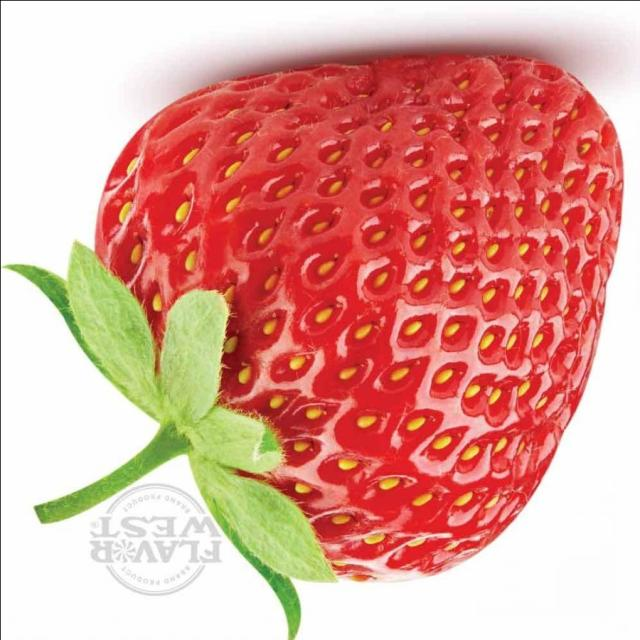strawberry: (0, 52, 623, 635)
